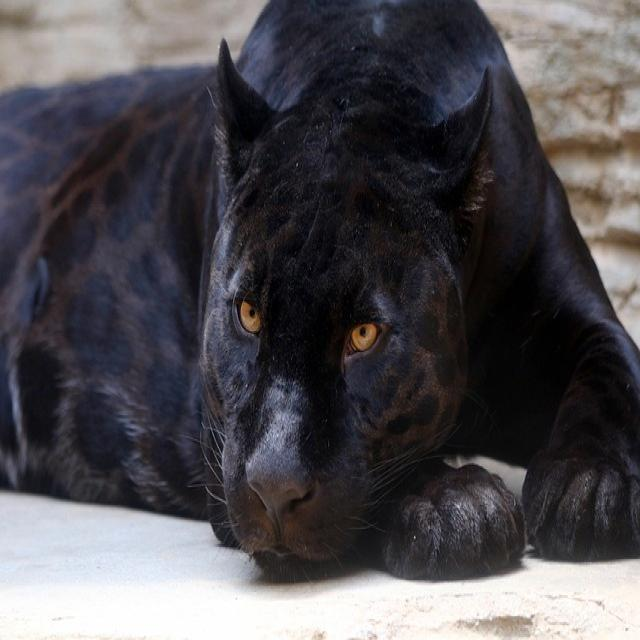Carnivorous: (0, 0, 640, 585)
